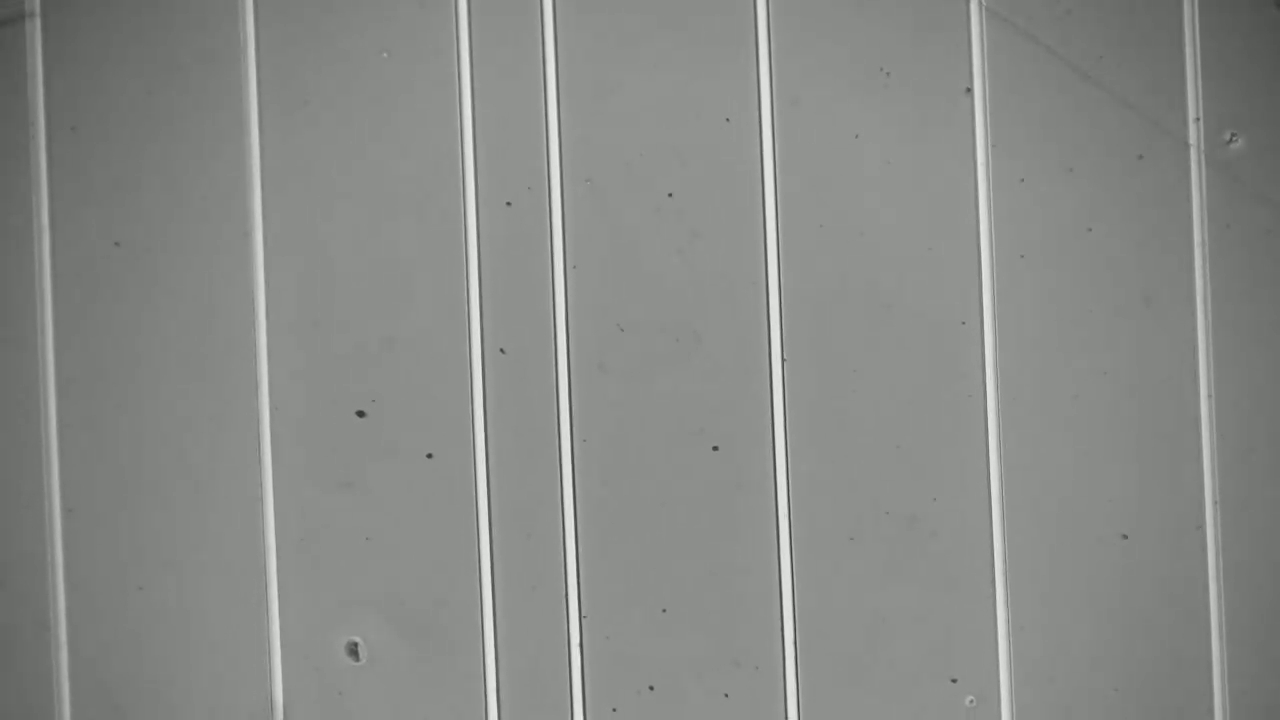scratch: (989, 1, 1187, 151)
